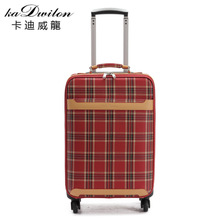luggage: (65, 8, 156, 213)
